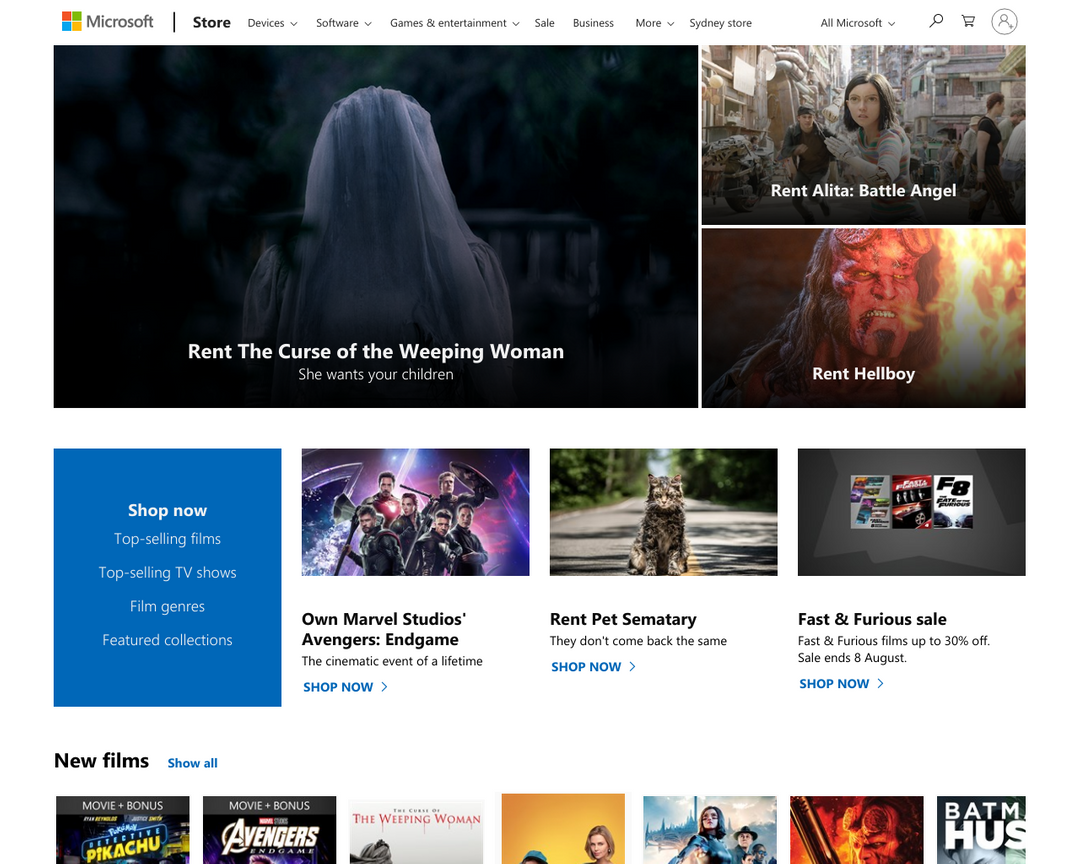Microsoft: (375, 130, 485, 159)
